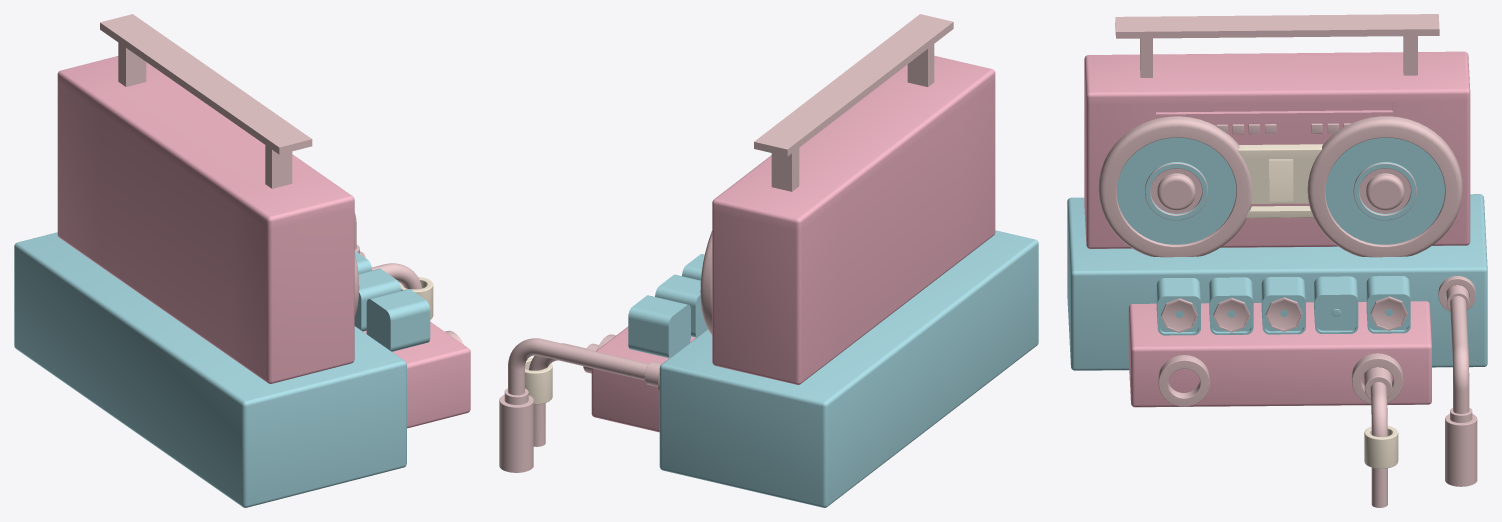
3 renders of one model, left to right at view 1: azimuth 30°, elevation 25°; view 2: azimuth 150°, elevation 25°; view 3: azimuth 270°, elevation 25°, orthographic. The views are drawn at different scales.
Visible parts, largest first — view 1: 管道; view 2: 管道, 圆柱_2_8.001; view 3: 管道, 圆柱_2_8.001, 圆柱_2_8.
Part boxes in pixels (<box>): 管道: <box>14,14,470,507</box>; 管道: <box>499,14,1038,507</box>; 圆柱_2_8.001: <box>700,231,712,334</box>; 管道: <box>1067,14,1487,507</box>; 圆柱_2_8.001: <box>1307,116,1462,257</box>; 圆柱_2_8: <box>1098,116,1251,257</box>.
Size of the model in its own units: 2627 by 2674 by 2819.
